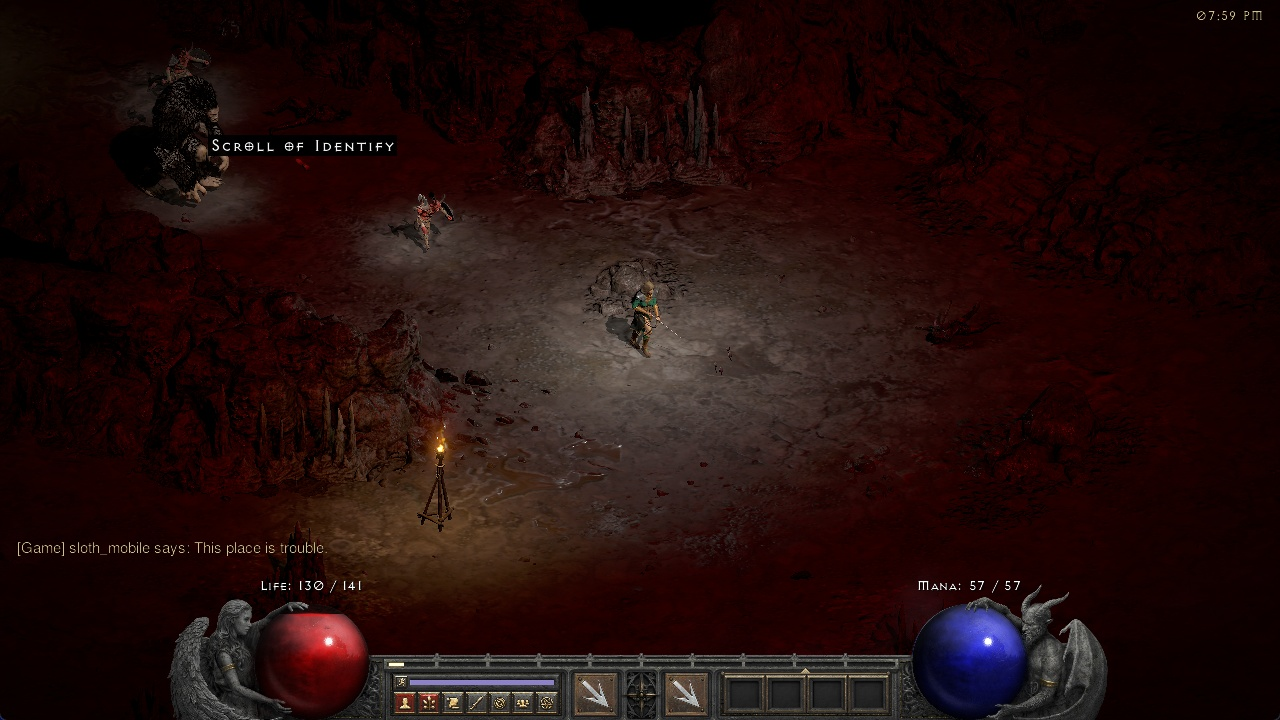fallen: (406, 188, 452, 251), (162, 49, 210, 75)
